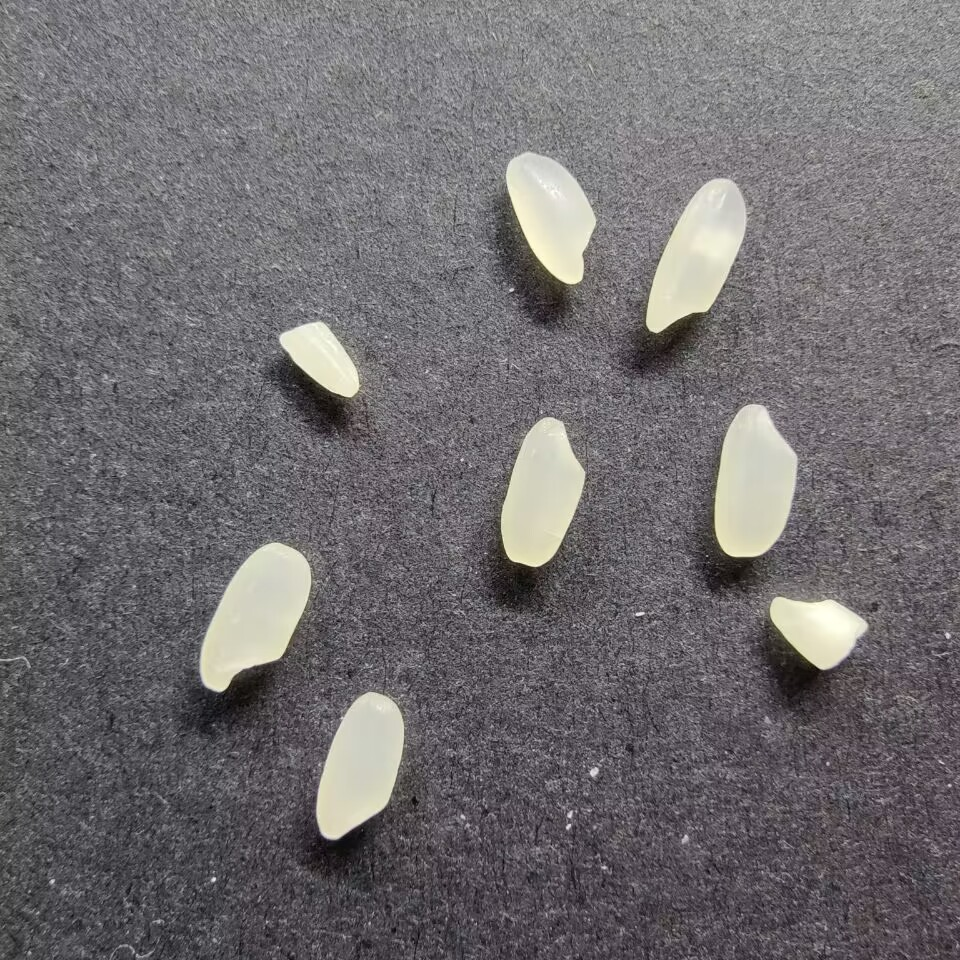broken: (769, 594, 868, 673), (276, 319, 362, 399)
rice: (198, 541, 313, 694), (646, 177, 748, 335), (313, 691, 407, 841), (497, 415, 587, 568), (711, 402, 798, 558), (504, 150, 598, 286)
